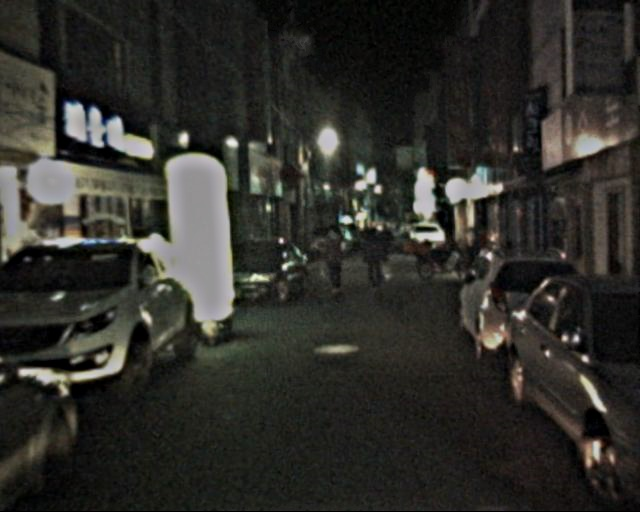person: (319, 227, 348, 298), (359, 226, 387, 295)
